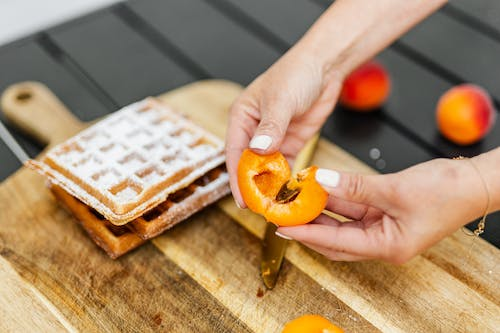knife: (259, 219, 290, 291)
